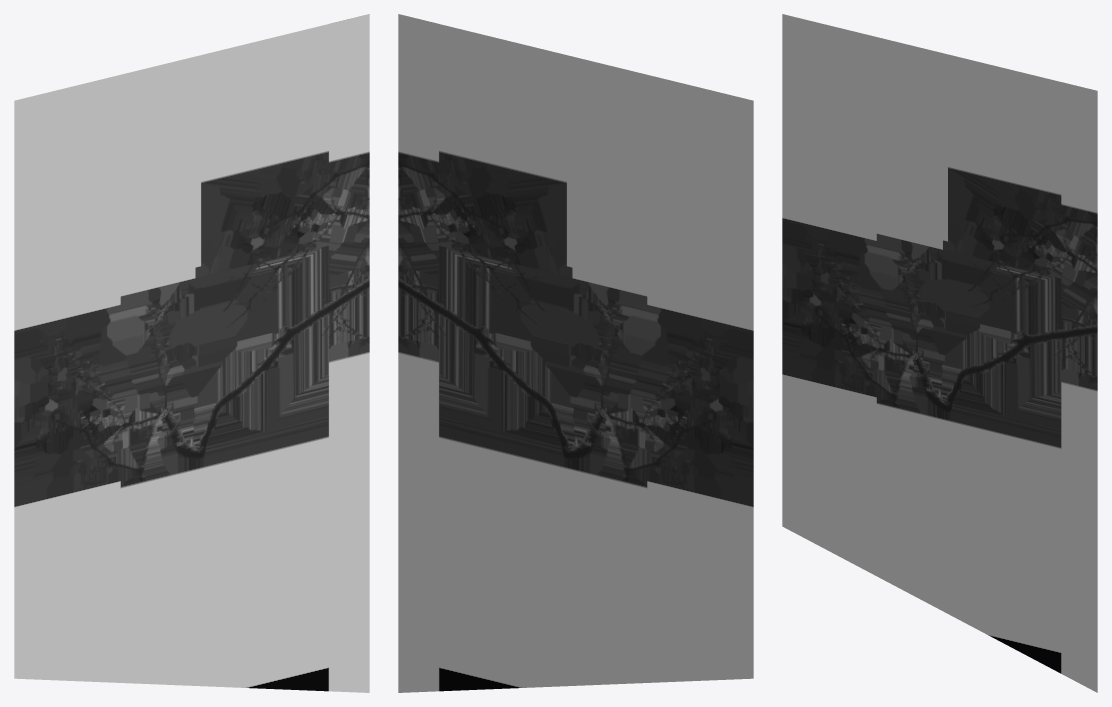
File: Roots1.fbx
3 renders of one model, left to right at view 1: azimuth 30°, elevation 25°; view 2: azimuth 150°, elevation 25°; view 3: azimuth 330°, elevation 25°, orthographic. The views are drawn at different scales.
Visible parts, largest first — view 1: pPlane9; view 2: pPlane9; view 3: pPlane9.
Part boxes in pixels (x1,y1,x2,y2): pPlane9: (14, 14, 369, 692); pPlane9: (398, 14, 753, 692); pPlane9: (782, 14, 1097, 692).
Size of the model in its own units: 2.42 by 4.43 by 2.95e-15.
